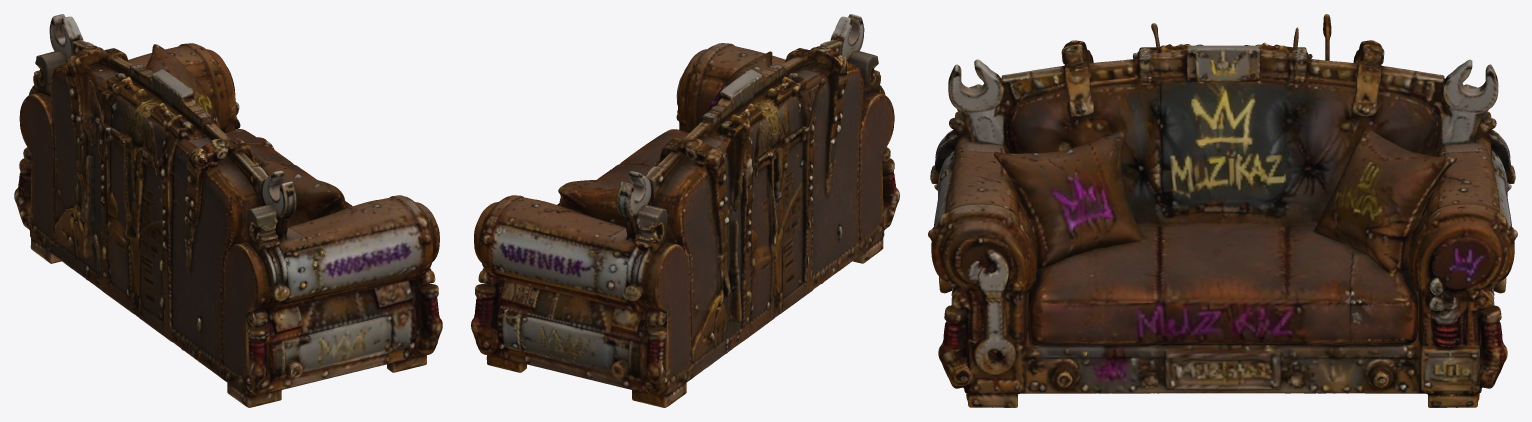
The model's file is BRONZE_COUCH.glb.
The picture shows the model from 3 angles, left to right: view 1: azimuth 30°, elevation 25°; view 2: azimuth 150°, elevation 25°; view 3: azimuth 270°, elevation 25°; orthographic projection. The views are drawn at different scales.
Visible parts, largest first — view 1: tripo_node_3729201c-662f-4462-9515-c8dd5f18c661; view 2: tripo_node_3729201c-662f-4462-9515-c8dd5f18c661; view 3: tripo_node_3729201c-662f-4462-9515-c8dd5f18c661.
Part boxes in pixels (x1,y1,x2,y2): tripo_node_3729201c-662f-4462-9515-c8dd5f18c661: (14, 14, 442, 407); tripo_node_3729201c-662f-4462-9515-c8dd5f18c661: (471, 14, 899, 407); tripo_node_3729201c-662f-4462-9515-c8dd5f18c661: (928, 14, 1517, 407).
Size of the model in its own units: 0.4914 by 0.5273 by 1.
1 material, 1 textured.
